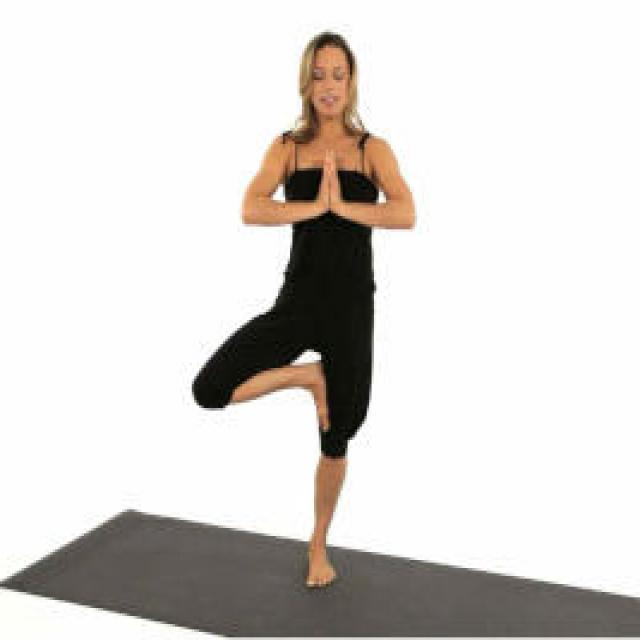yoga-pose tree: (185, 31, 419, 584)
